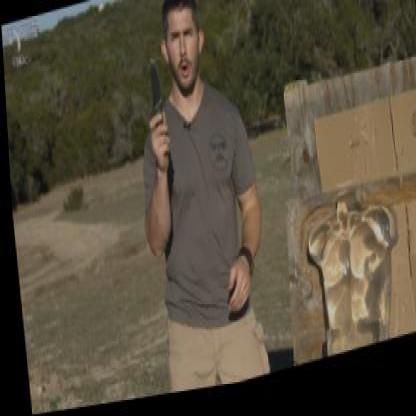knife: (137, 54, 169, 175)
